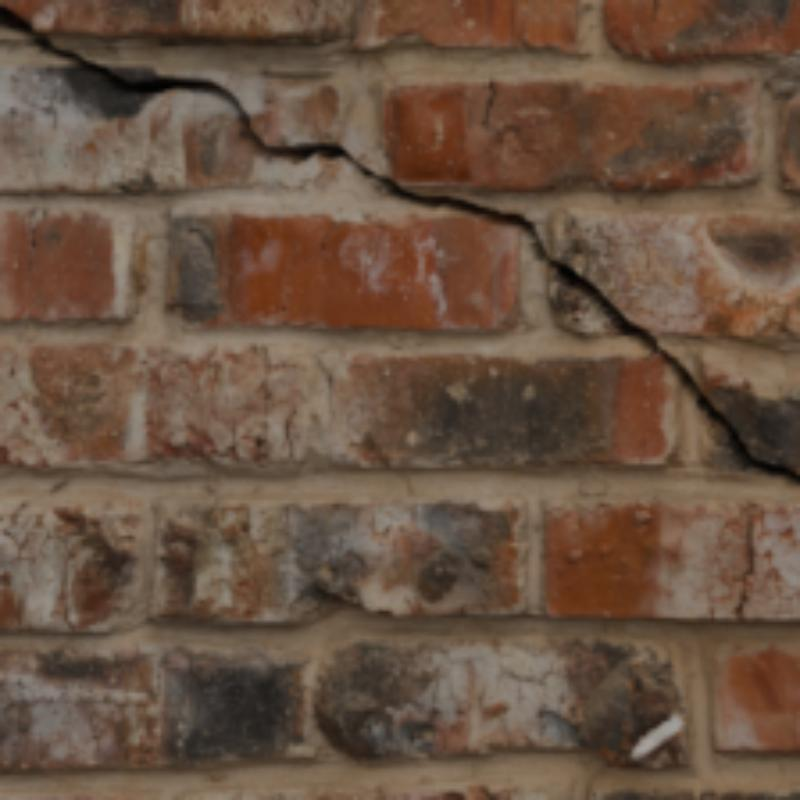pothole: (1, 7, 798, 485), (736, 507, 757, 618)
